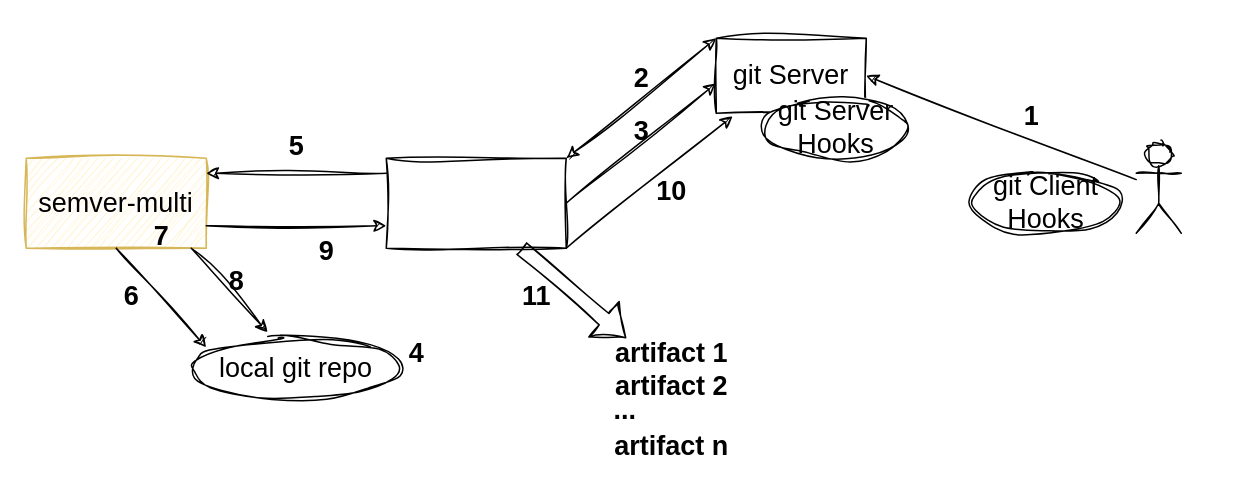
The diagram is 1247 pixels wide and 500 high, and some of its shapes have lost their labels. The shapes that lost their labels are listed below. From the top down, each one's centre as x and y in pixels, then its label:
At (x=475, y=202): "CI Server".
At (x=1158, y=187): "Developer".
